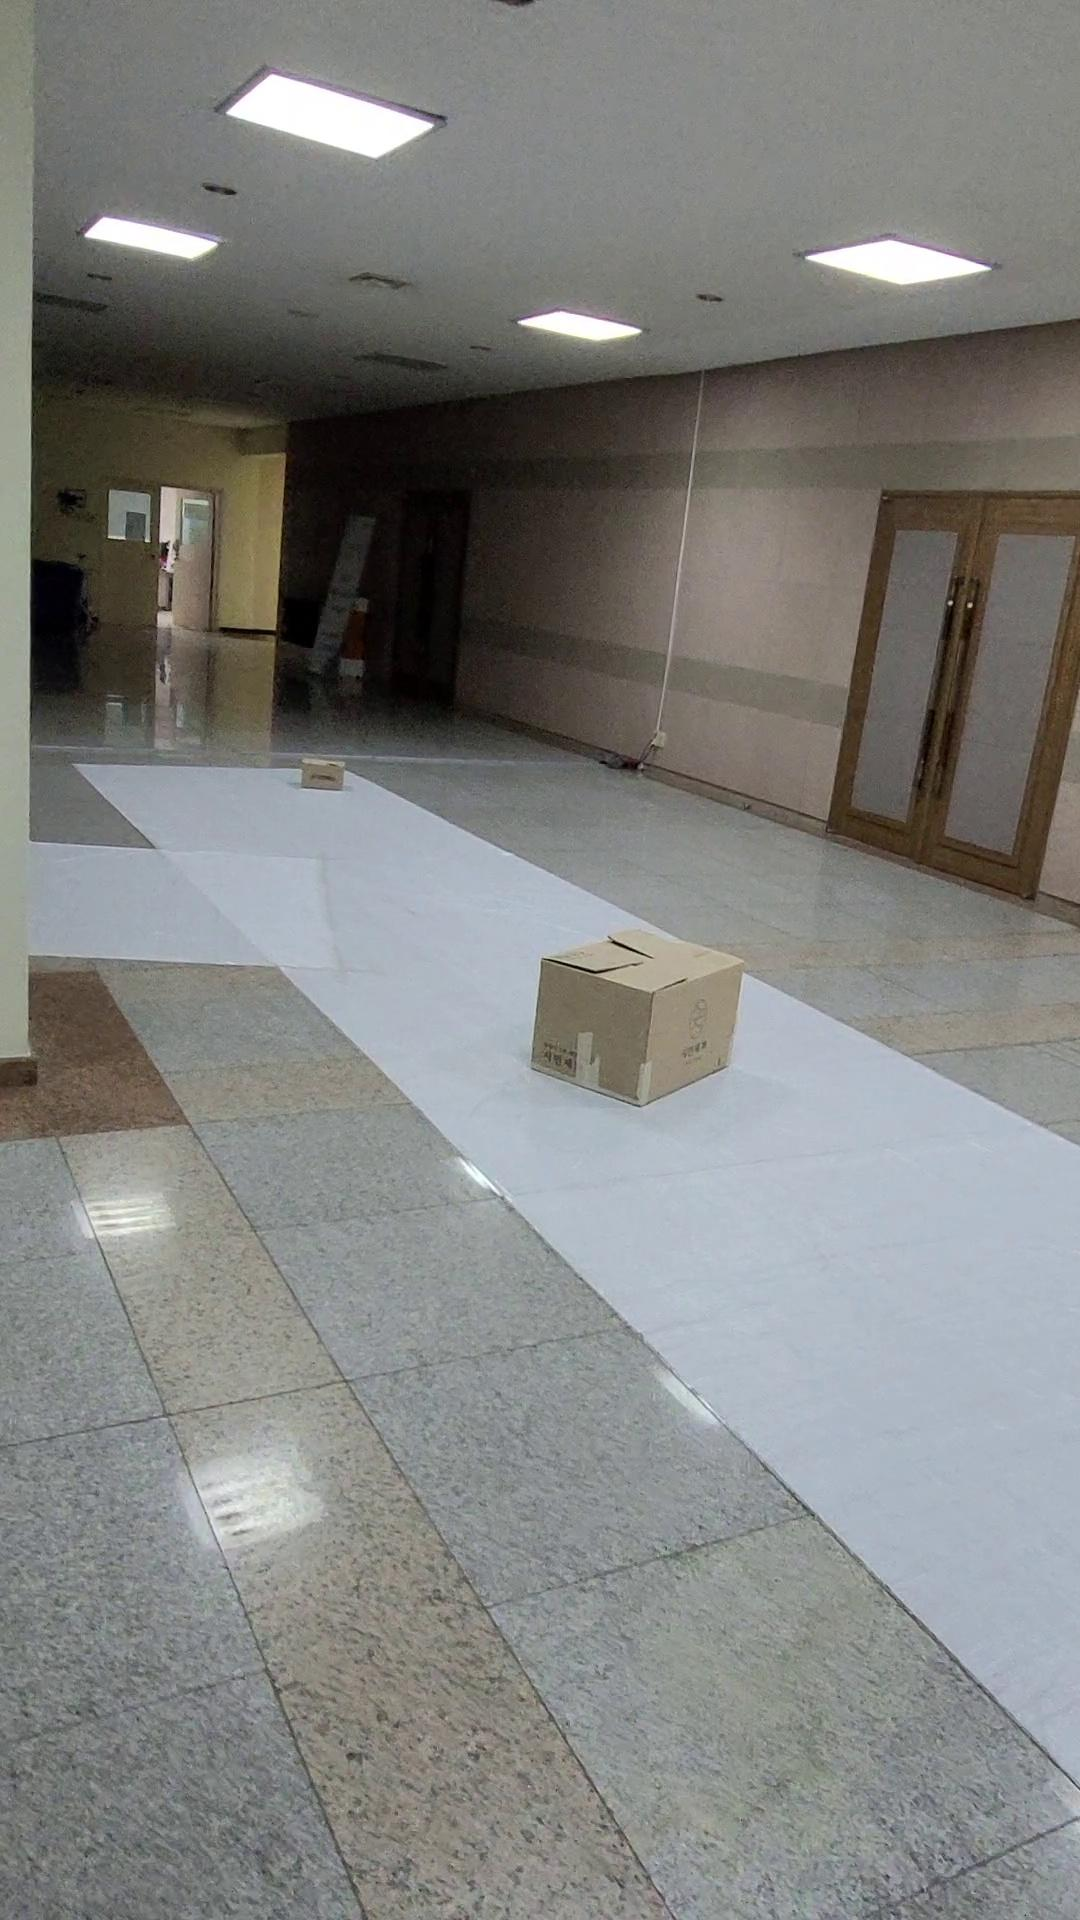Box: (526, 915, 750, 1112), (284, 748, 372, 804)
